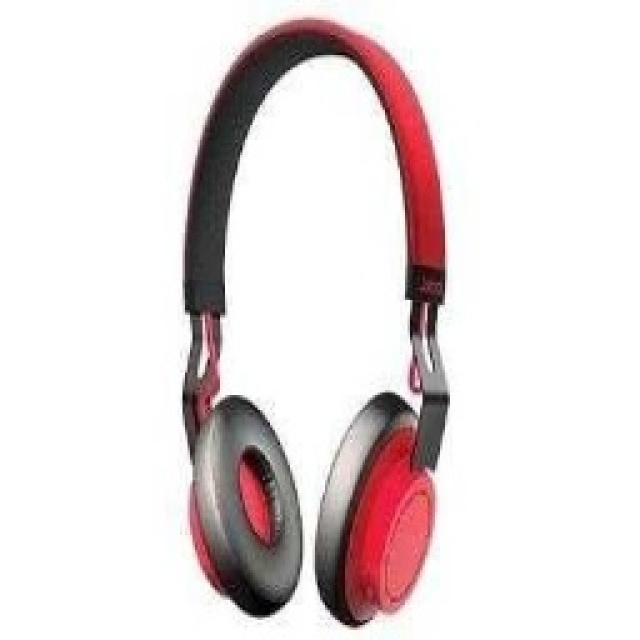headphones: (178, 15, 450, 625)
